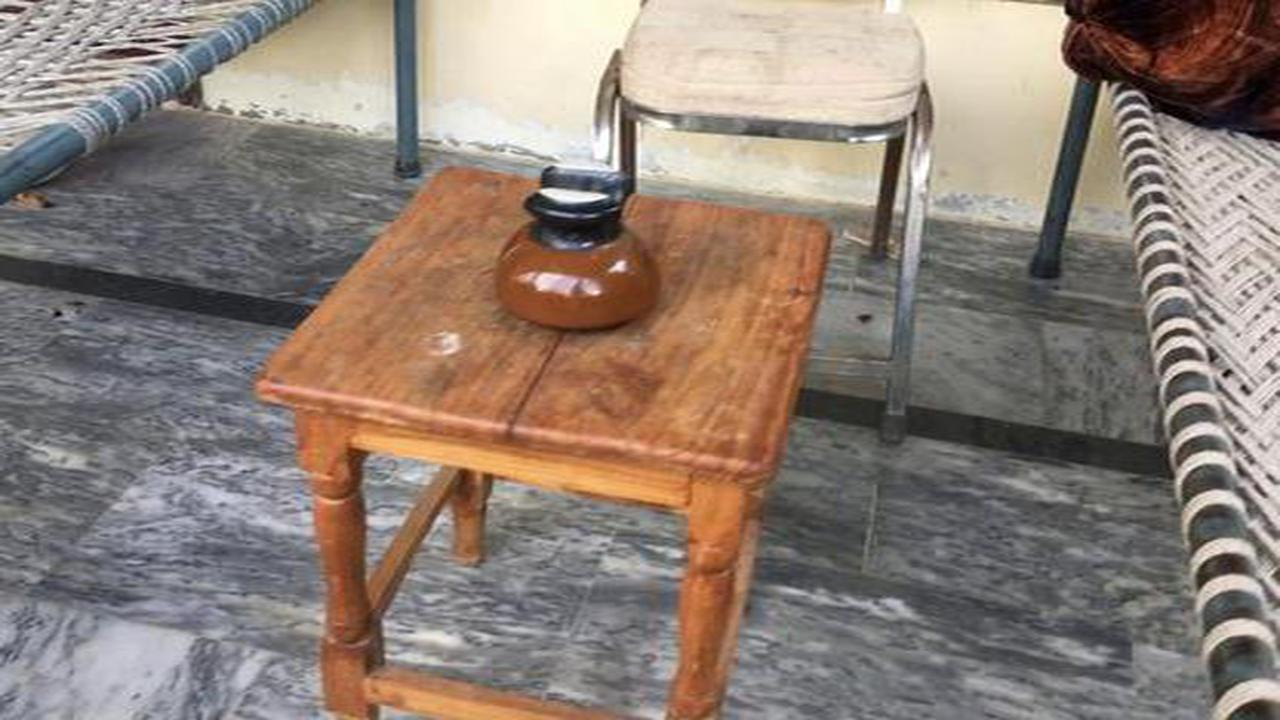insulator_pin: (471, 153, 677, 345)
